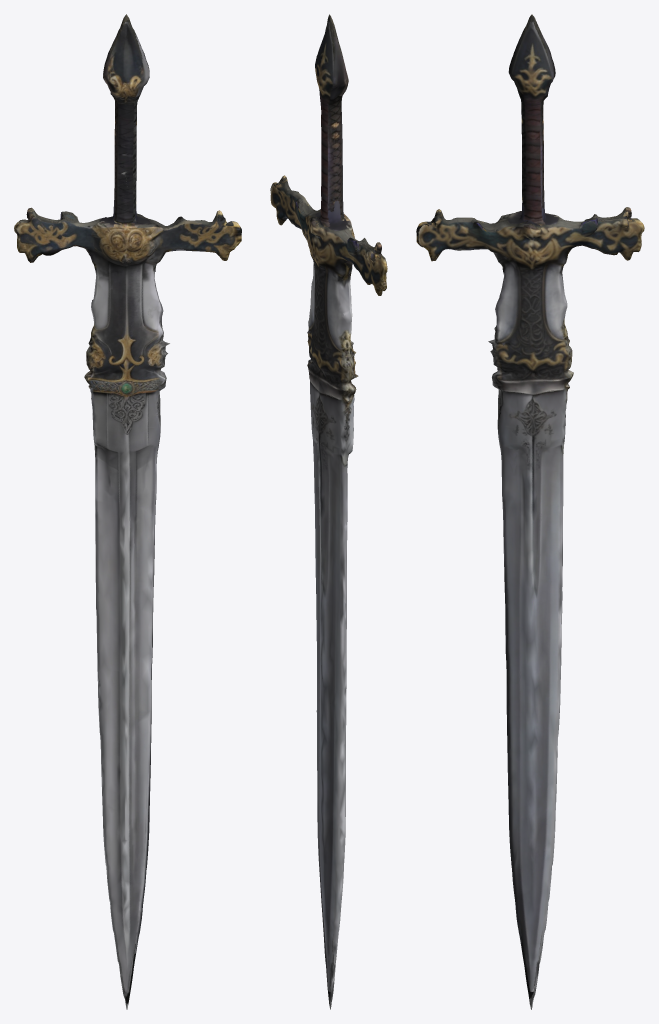
Rendered from Meshy_AI_sword_0724113413_texture.fbx.
3 renders of one model, left to right at view 1: azimuth 90°, elevation 25°; view 2: azimuth 210°, elevation 25°; view 3: azimuth 270°, elevation 25°, orthographic.
Visible parts, largest first — view 1: Mesh_0; view 2: Mesh_0; view 3: Mesh_0.
Boxes of the visible parts, <box> form: Mesh_0: <box>14,14,241,1009</box>; Mesh_0: <box>270,14,387,1009</box>; Mesh_0: <box>416,14,644,1009</box>.
Bounding box in the file's own units: 7.86 × 198 × 41.
Materials: 1 (1 with a texture image).
